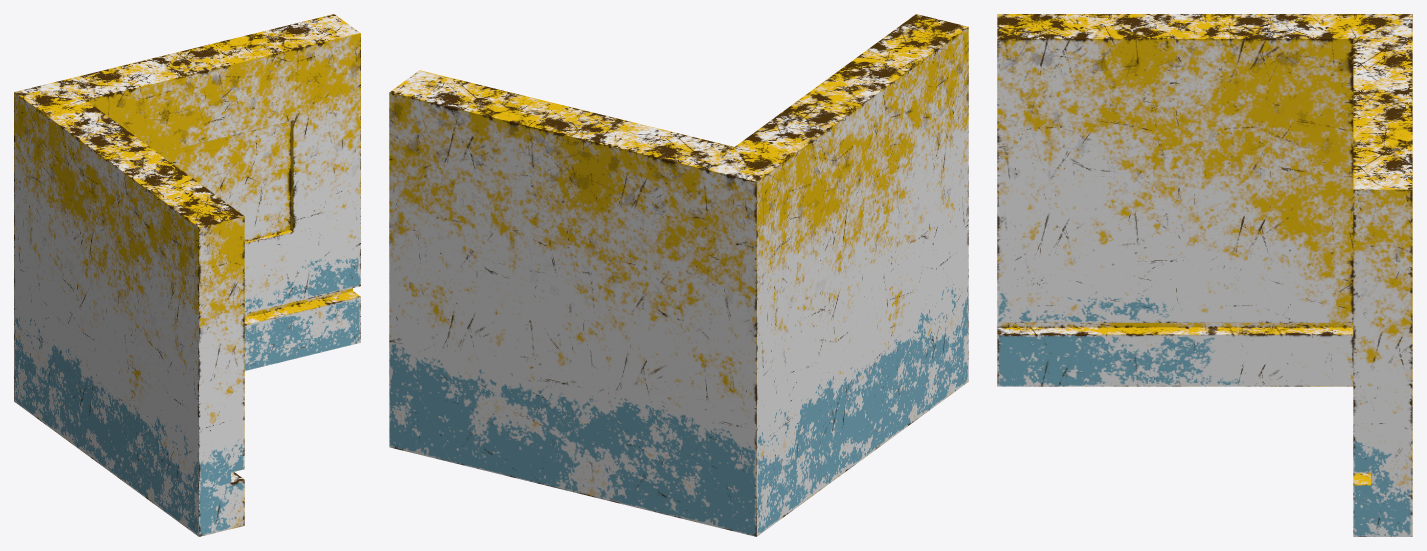
The model's file is Modular_Dungeon_wall_outer_corner.fbx.
3 views of the same model, side by side, from view 1: azimuth 30°, elevation 25°; view 2: azimuth 150°, elevation 25°; view 3: azimuth 270°, elevation 25° (orthographic). The views are drawn at different scales.
Visible parts, largest first — view 1: outer_Corner; view 2: outer_Corner; view 3: outer_Corner.
Part boxes in pixels (x1,y1,x2,y2): outer_Corner: [14, 14, 360, 536]; outer_Corner: [389, 14, 968, 536]; outer_Corner: [997, 14, 1412, 536].
Bounding box in the file's own units: 280 × 259 × 280.
